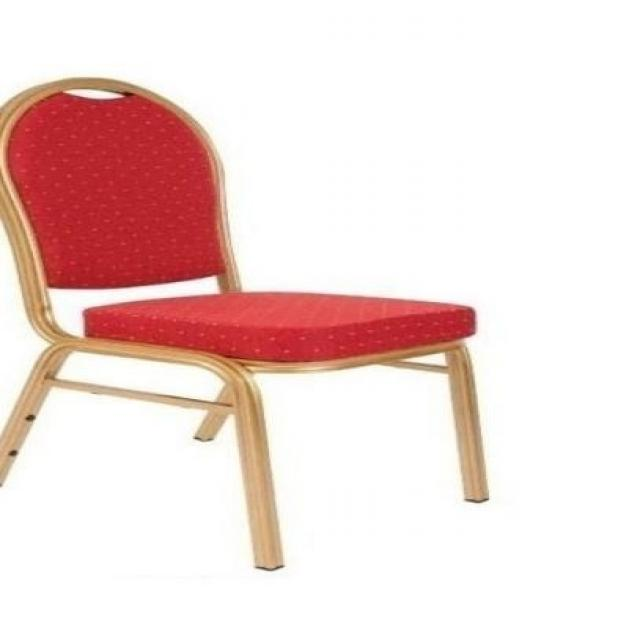Chair: (6, 76, 497, 572)
